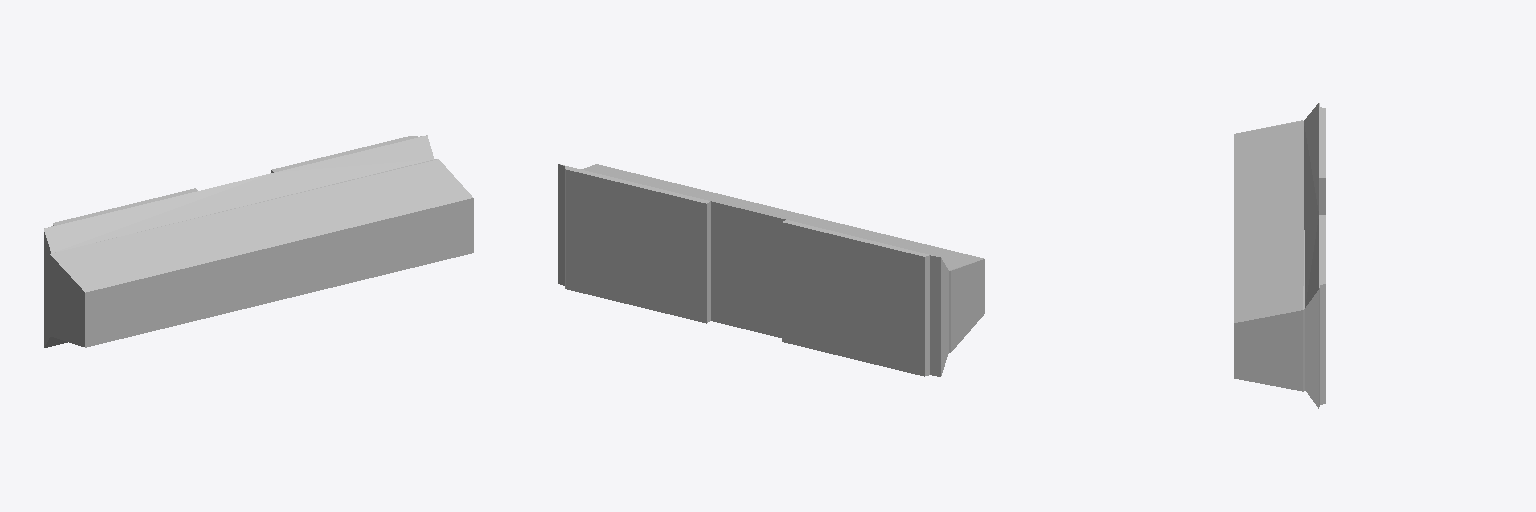
File: goalie.obj
The picture shows the model from 3 angles: view 1: azimuth 30°, elevation 25°; view 2: azimuth 150°, elevation 25°; view 3: azimuth 270°, elevation 25°; orthographic projection.
Parts seen in each view (by area): view 1: Cube; view 2: Cube; view 3: Cube.
Part boxes in pixels (x1,y1,x2,y2): Cube: (44, 135, 473, 347); Cube: (558, 164, 984, 376); Cube: (1234, 103, 1325, 408).
Bounding box in the file's own units: 2.02 × 0.5954 × 0.4177.